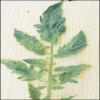Tomato leaf mosaic virus: (38, 2, 68, 45), (53, 31, 87, 58), (3, 59, 44, 81), (55, 65, 93, 85), (23, 58, 48, 68)
